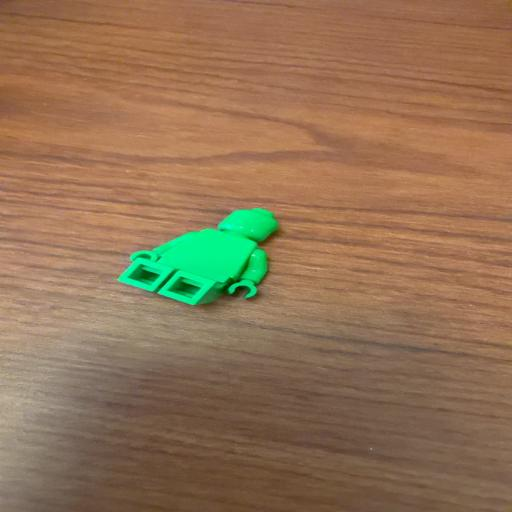UnoQ-minifig-detector: (119, 209, 277, 305)
